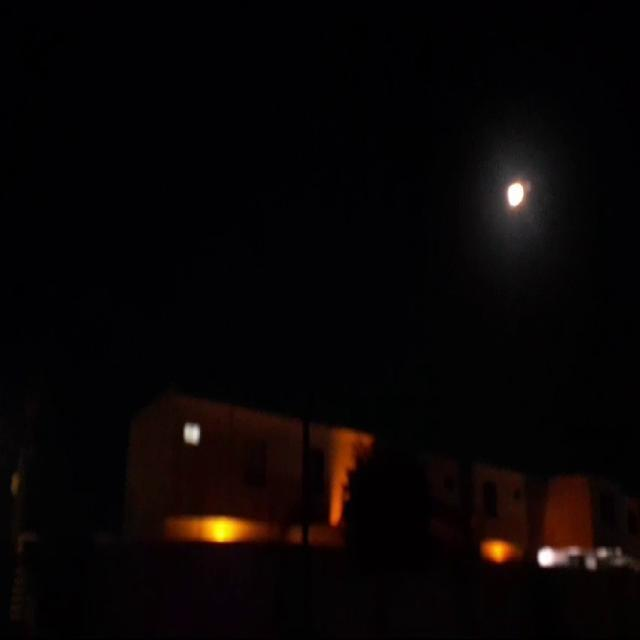moon: (502, 178, 525, 212)
